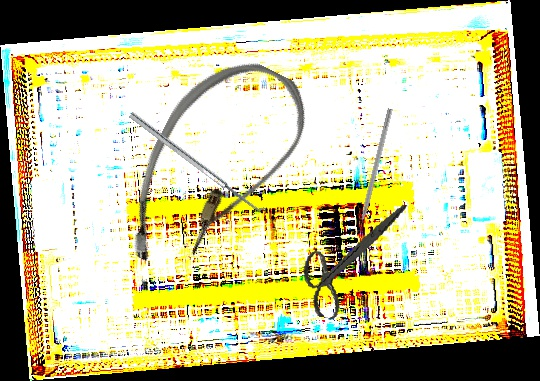Cannula: (106, 38, 323, 299)
Chopper: (349, 106, 393, 238)
Iris Scissors: (293, 186, 410, 331)
Spatula Surgical: (128, 106, 269, 217)
